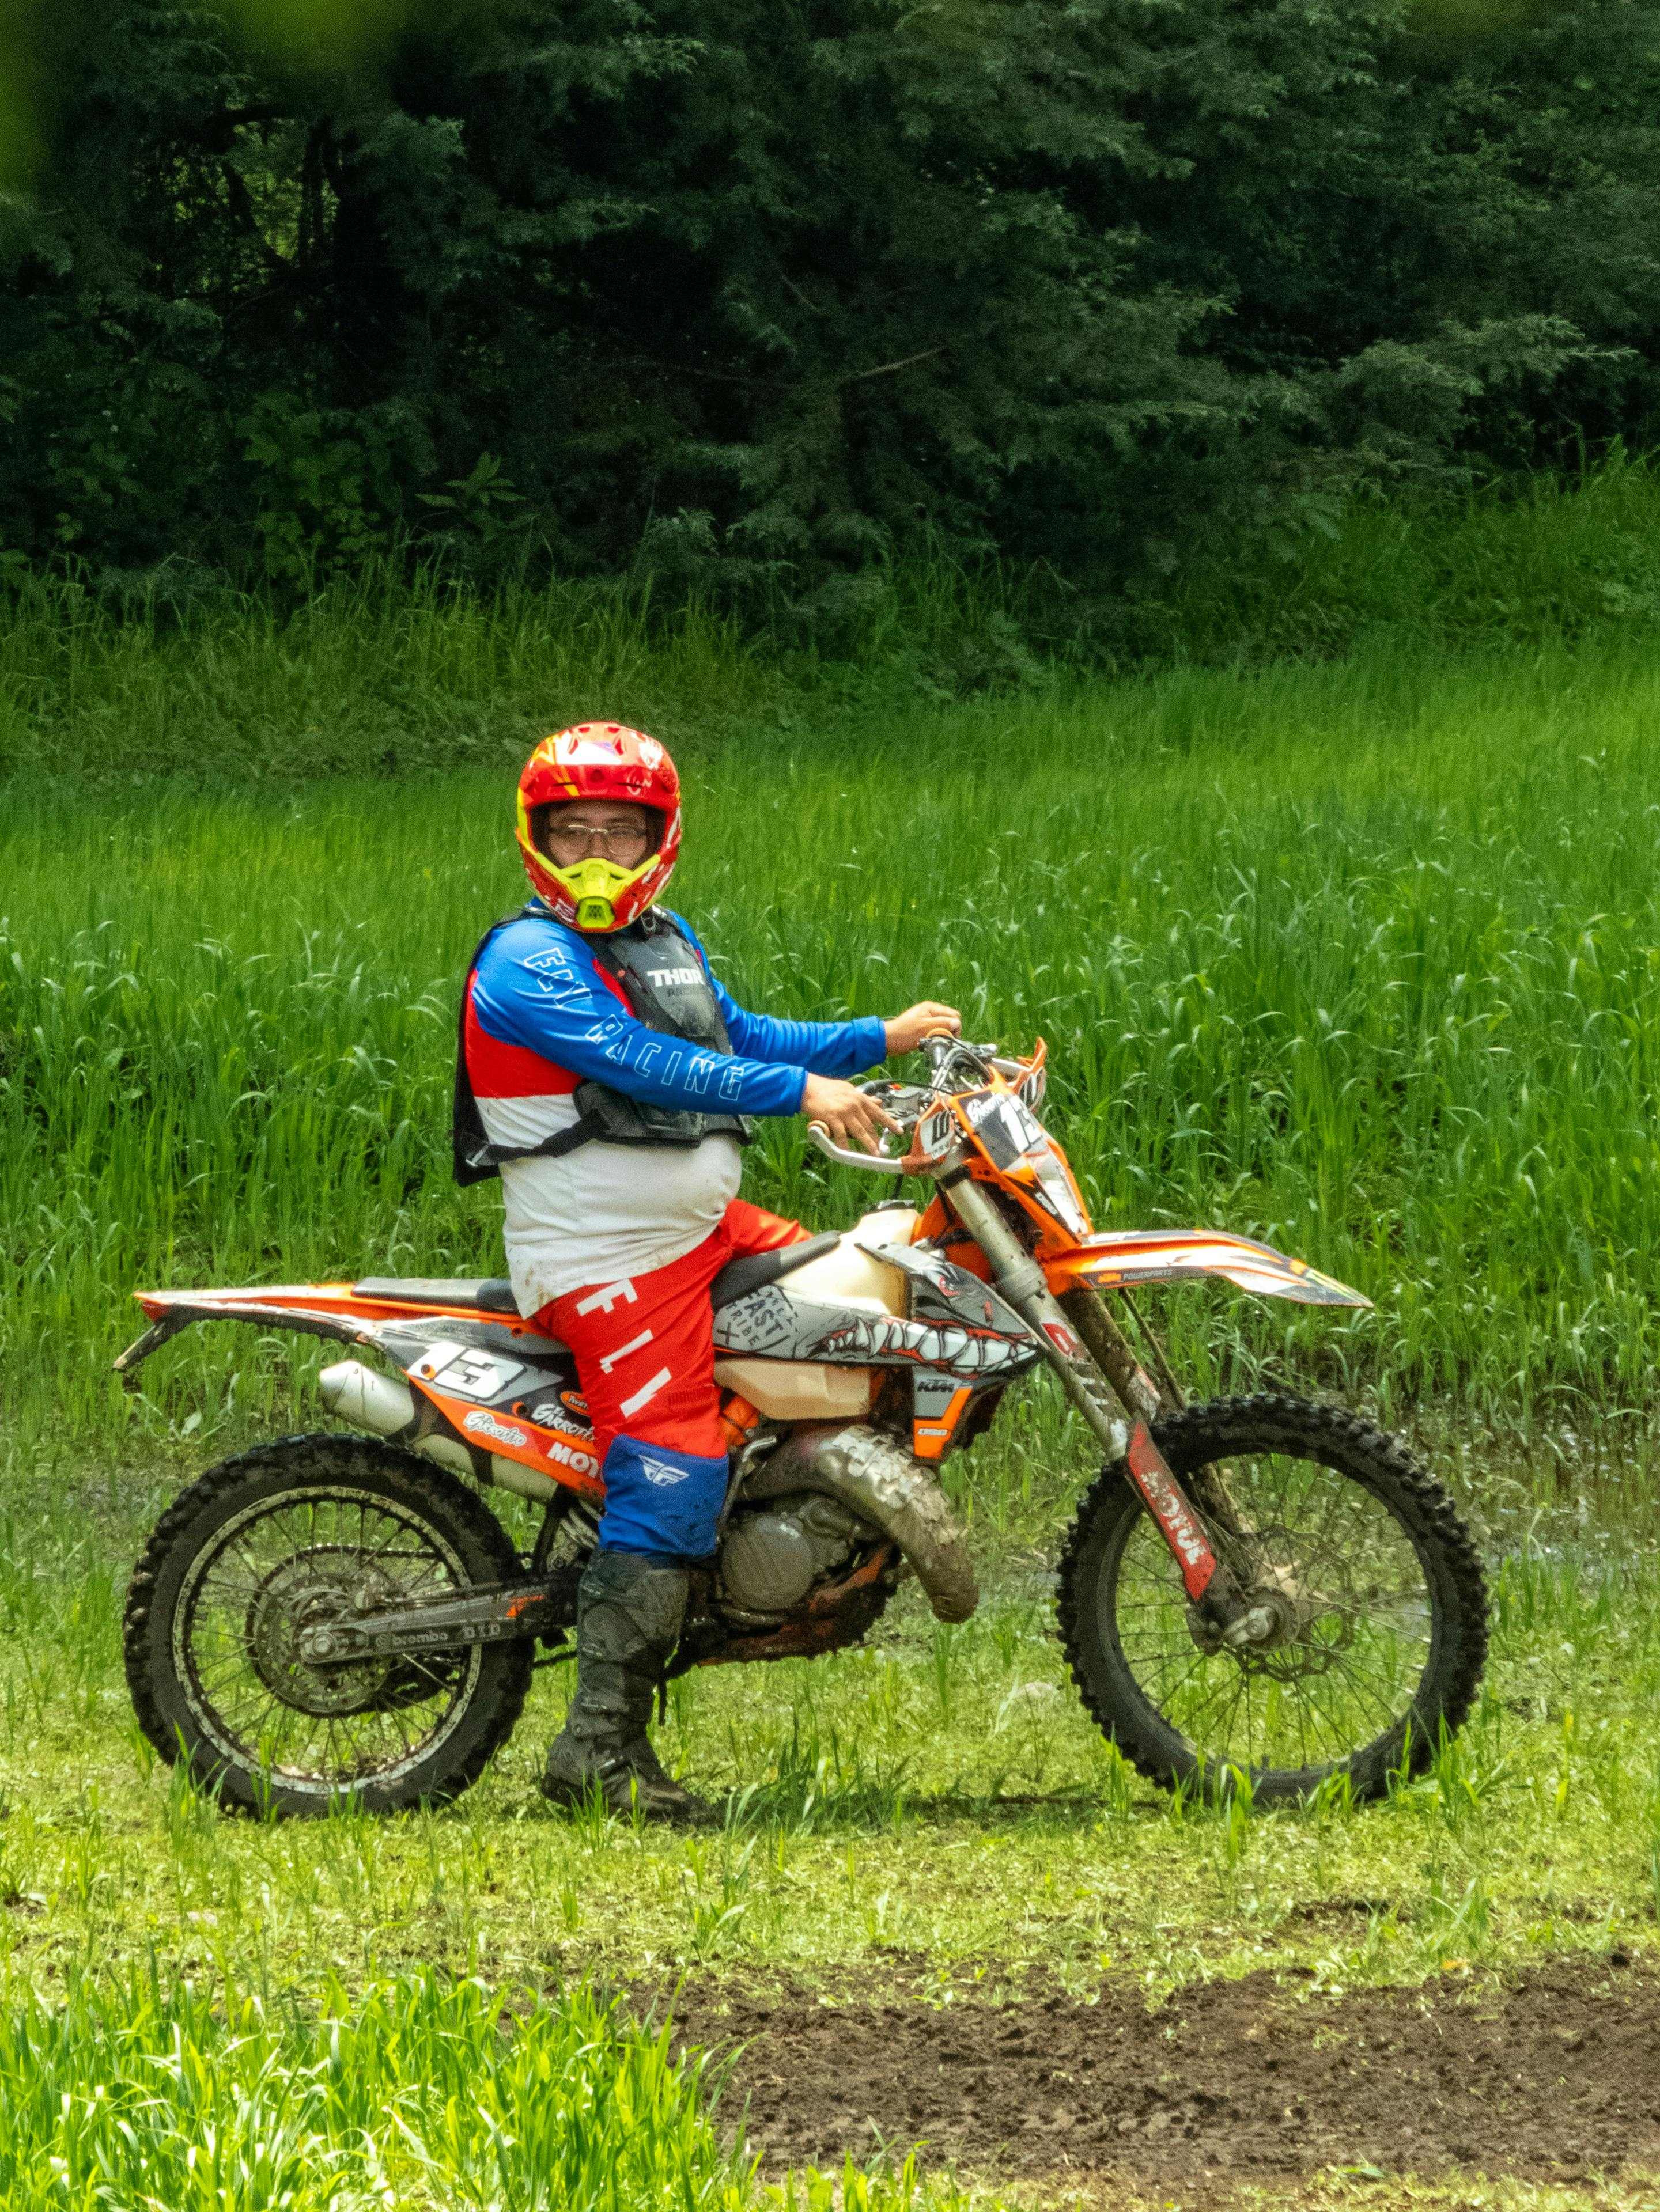capacete: (504, 720, 691, 933)
